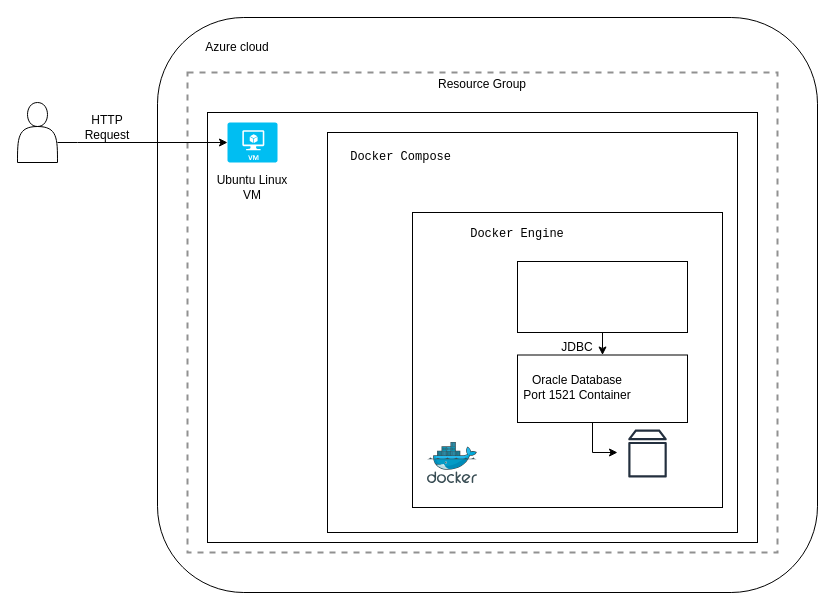
The diagram is 835 pixels wide and 610 high, and some of its shapes have lost their labels. Each missing label, with the centre of its shape:
Persistent Docker Volume: [647,453]
Spring Boot API Port 8080 Container: [602,296]
